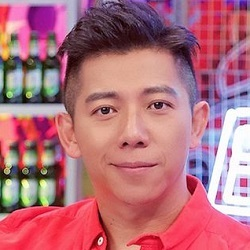unmask: (68, 68, 201, 206)
